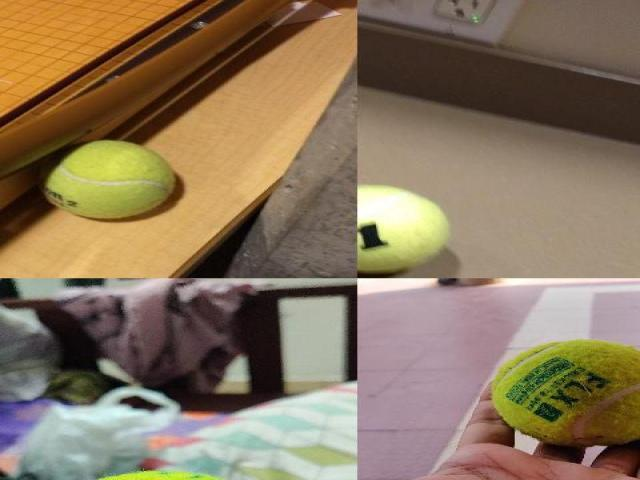tennis-ball: (491, 339, 638, 447), (36, 138, 176, 220), (357, 184, 452, 274), (100, 471, 218, 480)
